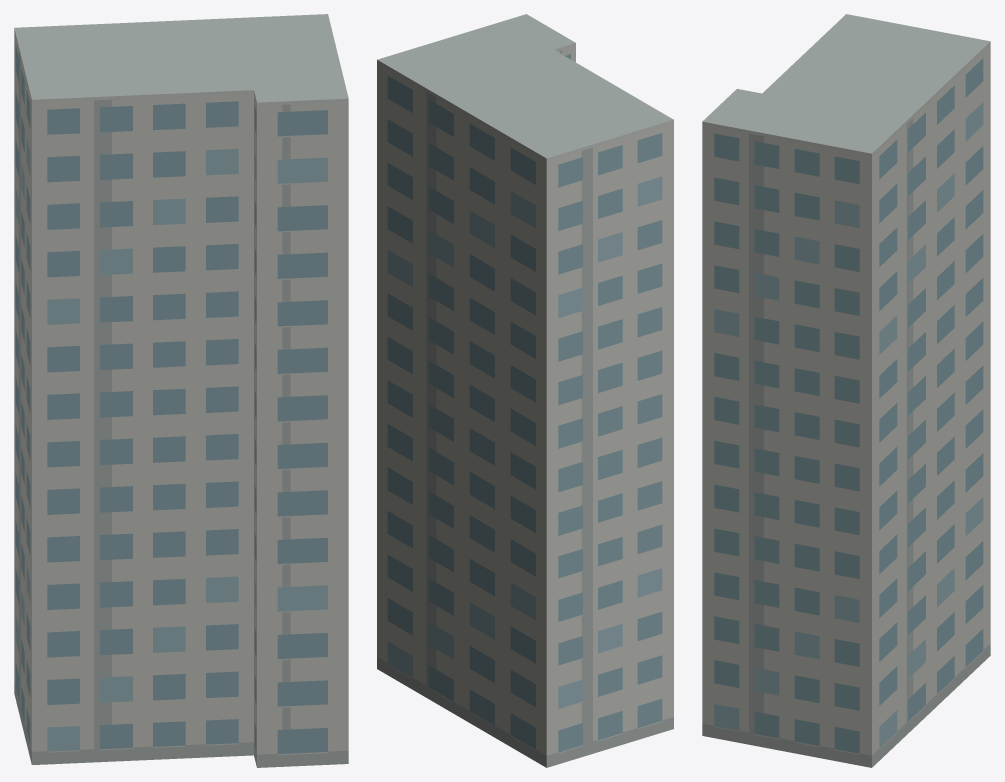
The model's file is residential-82328d26-0172-48bd-bc06-dccb107c88ac.glb.
3 views of the same model, side by side, from view 1: azimuth 30°, elevation 25°; view 2: azimuth 150°, elevation 25°; view 3: azimuth 270°, elevation 25° (orthographic). The views are drawn at different scales.
Visible parts, largest first — view 1: residential-82328d26-0172-48bd-bc06-dccb107c88ac.tmp; view 2: residential-82328d26-0172-48bd-bc06-dccb107c88ac.tmp; view 3: residential-82328d26-0172-48bd-bc06-dccb107c88ac.tmp.
Part boxes in pixels (x1,y1,x2,y2): residential-82328d26-0172-48bd-bc06-dccb107c88ac.tmp: (14,14,348,767); residential-82328d26-0172-48bd-bc06-dccb107c88ac.tmp: (377,14,673,767); residential-82328d26-0172-48bd-bc06-dccb107c88ac.tmp: (702,14,990,767).
Size of the model in its own units: 23.42 by 48 by 20.44.
